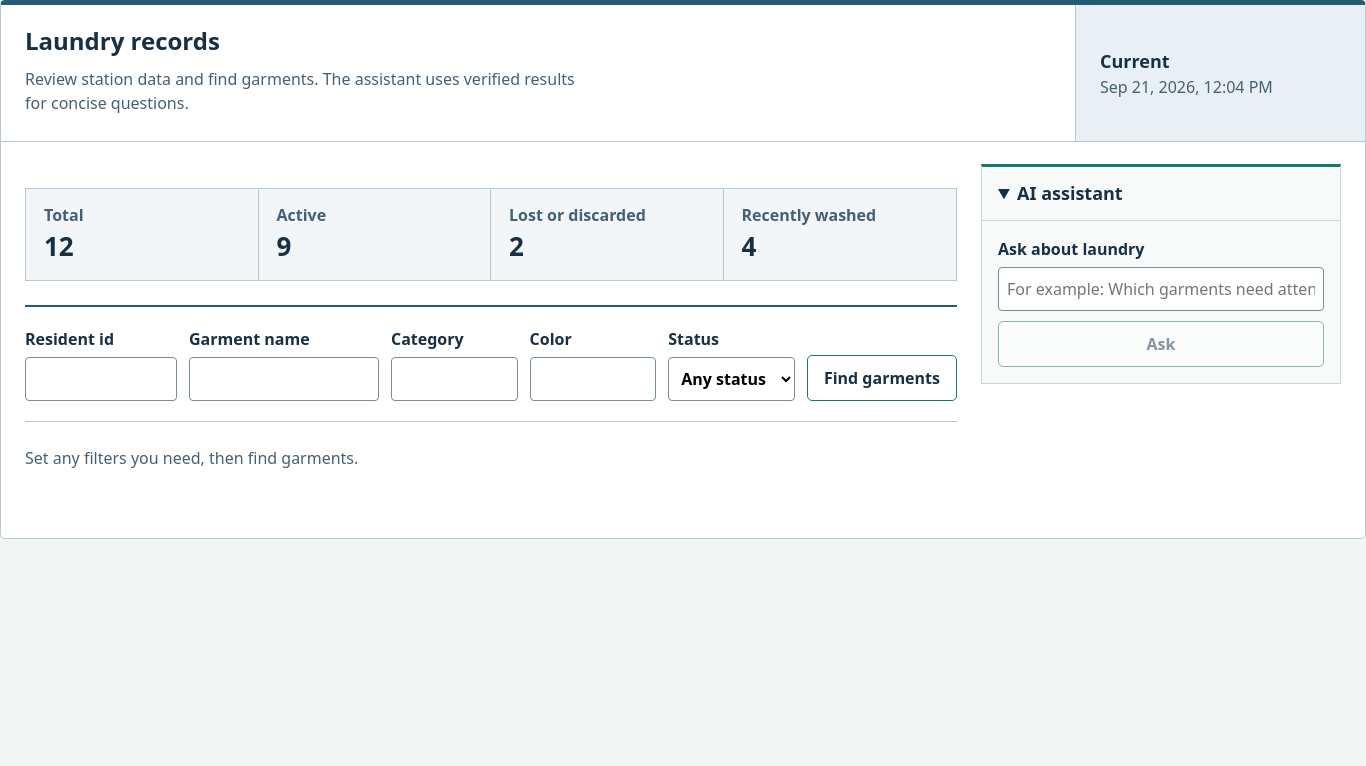
keeps answer provenance independent from current overview and model prose
This screenshot has width=1366, height=766.
Expected: the text "12" is shown, x1=44 y1=228 x2=74 y2=264
In the field labelled "Ask about laundry": (1161, 289) x1=998 y1=267 x2=1324 y2=311, type "How many?"
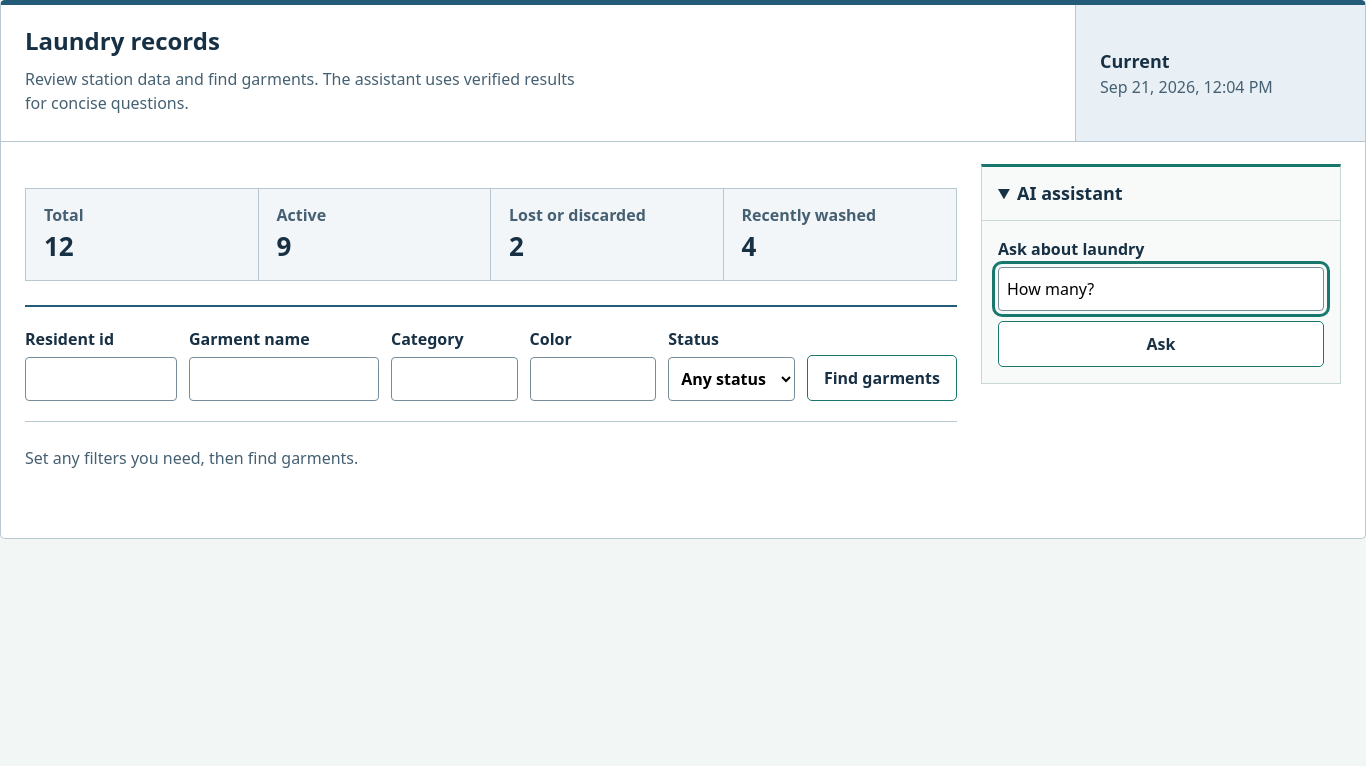
Click the button "Ask": (1161, 344) x1=998 y1=321 x2=1324 y2=367
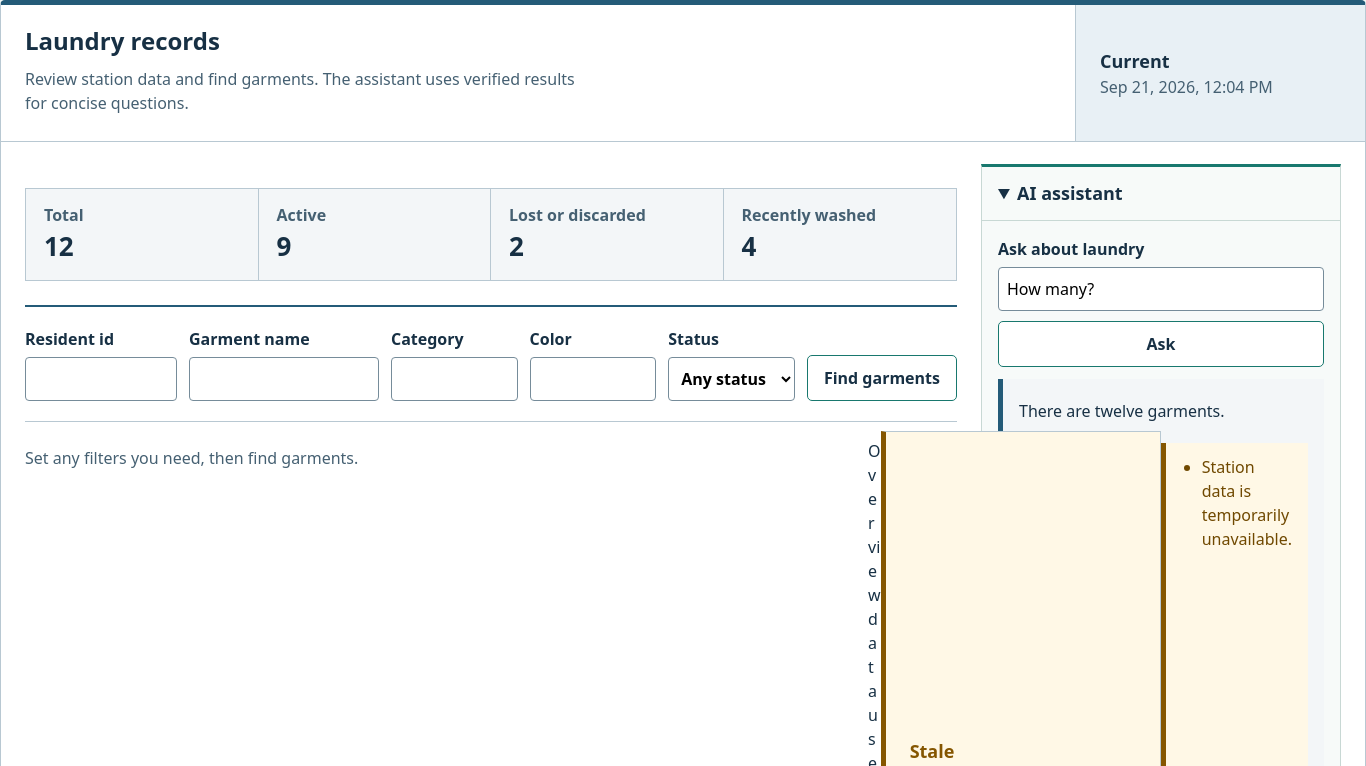
Now the text "There are twelve garments." is shown, box x1=1019 y1=400 x2=1225 y2=422
Now the number of elements named "Assistant result freshness" is 2
Now the text "Stale" is shown, box x1=910 y1=738 x2=954 y2=762
